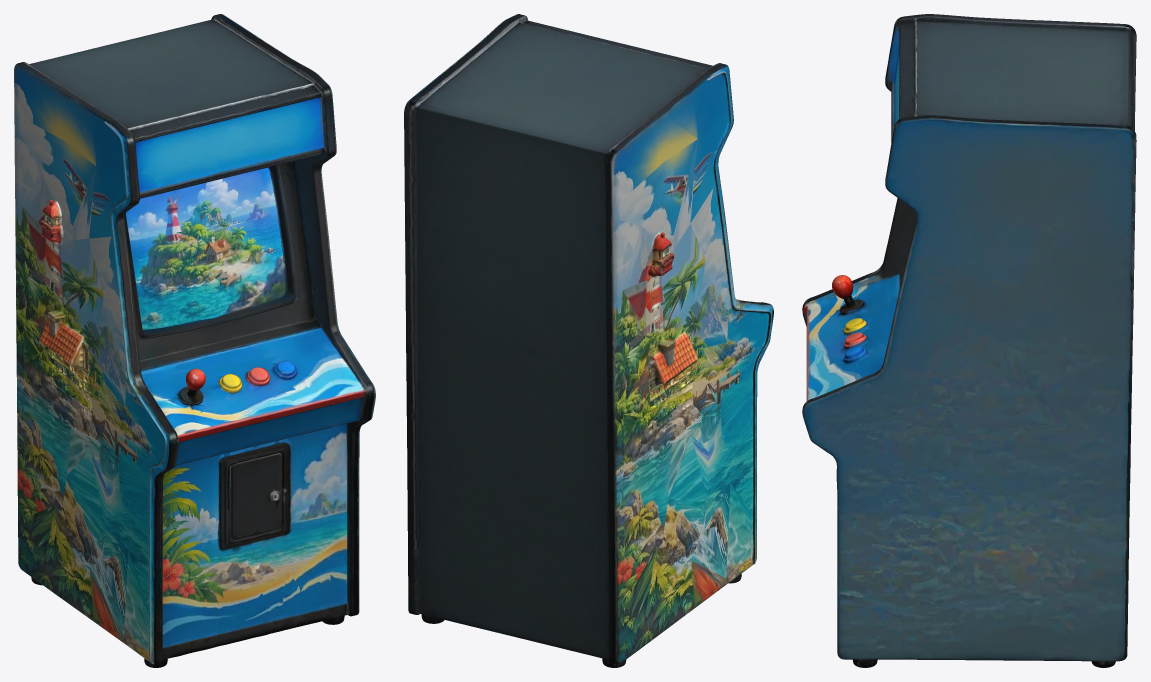
File: cab-lba2.glb
The picture shows the model from 3 angles, left to right: view 1: azimuth 30°, elevation 25°; view 2: azimuth 150°, elevation 25°; view 3: azimuth 270°, elevation 25°; orthographic projection. The views are drawn at different scales.
Visible parts, largest first — view 1: tripo_node_03f1649b-0b6e-46f3-bc0f-57a838f5a4e8; view 2: tripo_node_03f1649b-0b6e-46f3-bc0f-57a838f5a4e8; view 3: tripo_node_03f1649b-0b6e-46f3-bc0f-57a838f5a4e8.
Boxes of the visible parts, x1,y1,x2,y2 form: tripo_node_03f1649b-0b6e-46f3-bc0f-57a838f5a4e8: [14, 14, 375, 667]; tripo_node_03f1649b-0b6e-46f3-bc0f-57a838f5a4e8: [404, 14, 773, 667]; tripo_node_03f1649b-0b6e-46f3-bc0f-57a838f5a4e8: [802, 14, 1136, 667].
Bounding box in the file's own units: 0.4277 × 0.9787 × 0.5367.
Materials: 1 (1 with a texture image).
